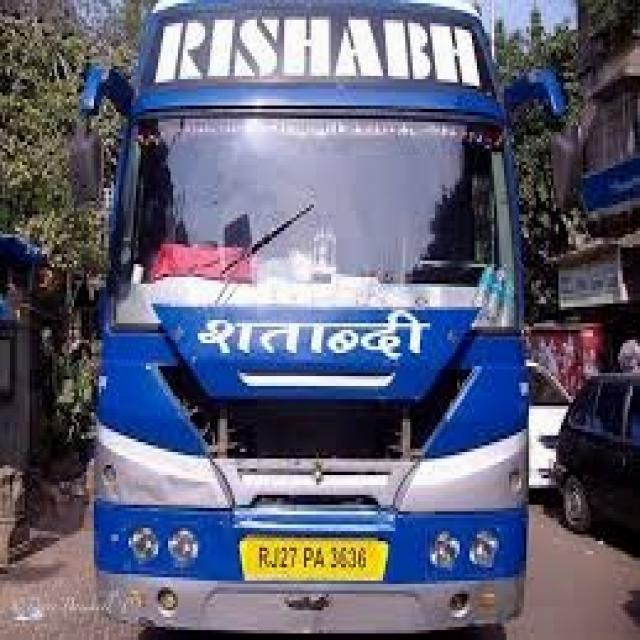bus: (49, 1, 600, 640)
